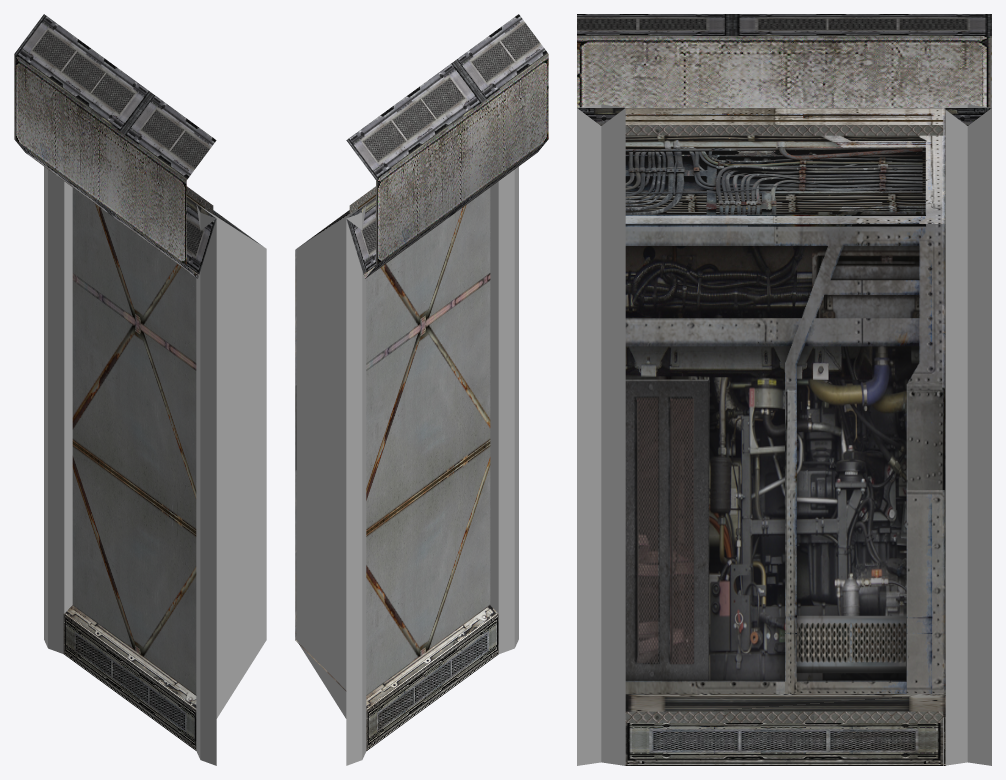
Rendered from Wall_E_Mid4mts_00.fbx.
3 views of the same model, side by side, from view 1: azimuth 30°, elevation 25°; view 2: azimuth 150°, elevation 25°; view 3: azimuth 270°, elevation 25° (orthographic). The views are drawn at different scales.
Visible parts, largest first — view 1: Wall_Framework, Wall_E_Mid4mts_05; view 2: Wall_Framework, Wall_E_Mid4mts_05; view 3: Wall_Framework, Metal Grid.
Part boxes in pixels (x1,y1,x2,y2): Wall_Framework: (14, 14, 266, 765); Wall_E_Mid4mts_05: (72, 188, 204, 695); Wall_Framework: (295, 14, 548, 765); Wall_E_Mid4mts_05: (358, 187, 490, 695); Wall_Framework: (577, 14, 991, 765); Metal Grid: (625, 125, 943, 722).
Bounding box in the file's own units: 66.97 × 400 × 200.
